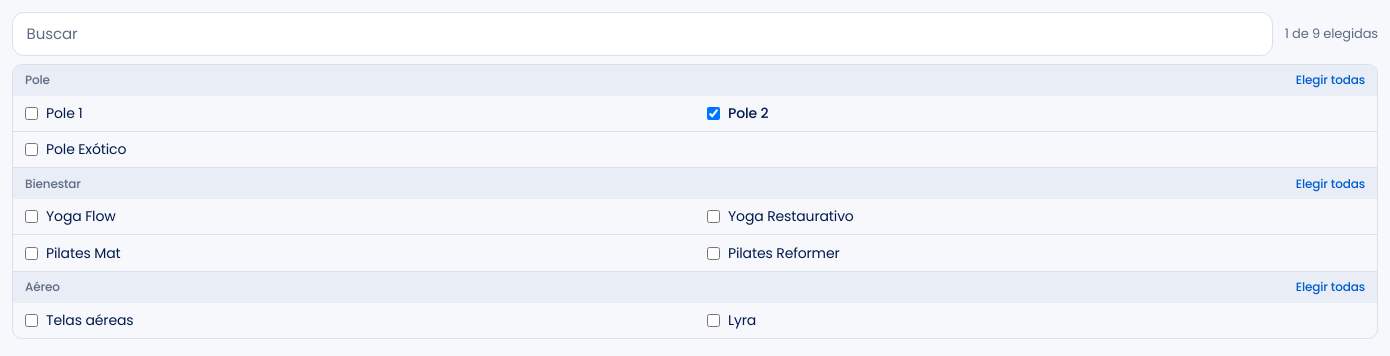
it: selector de opciones › por grupos, con búsqueda sin acentos y el conteo de elegidas
Expected: the text "1 de 9 elegidas" is shown, [1285,24,1378,44]
Step 1. Type "aereas" into the search field with placeholder "Buscar" → (642, 34), box [12,12,1273,56]
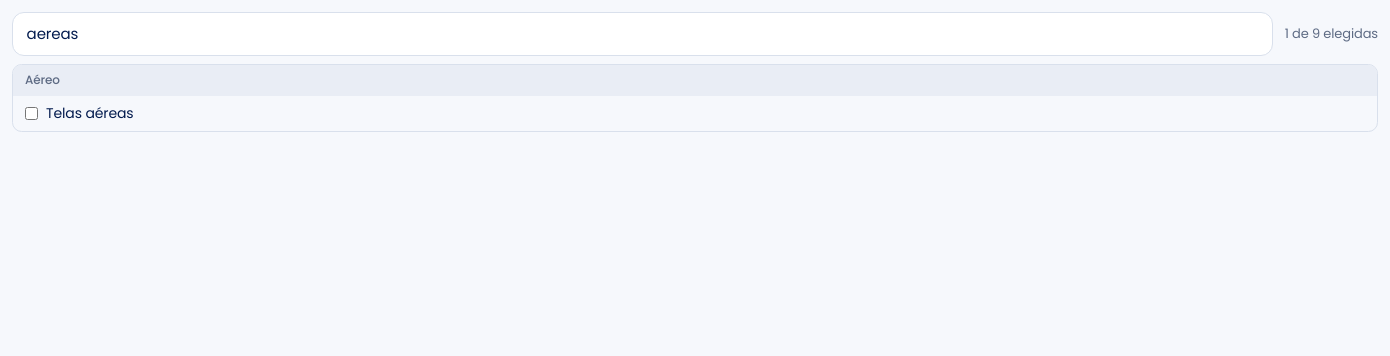
Expected: the elements with class "so-opcion" read "Telas aéreas", in this order, [25,103,134,123]
